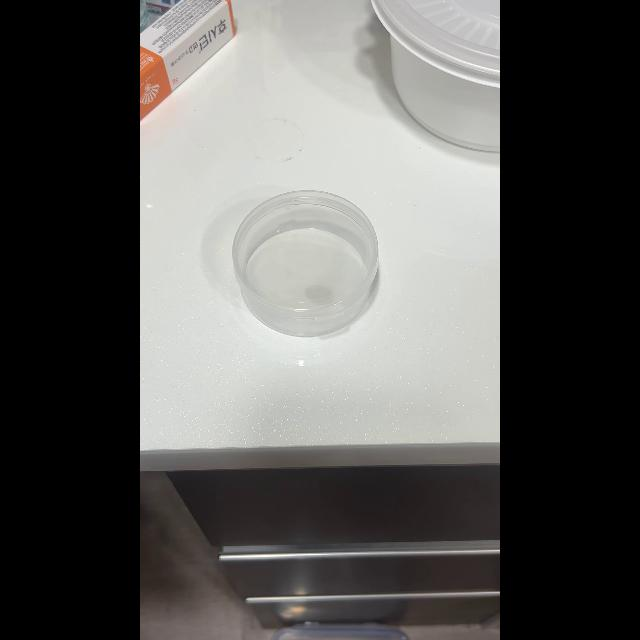clean: (227, 180, 386, 334)
